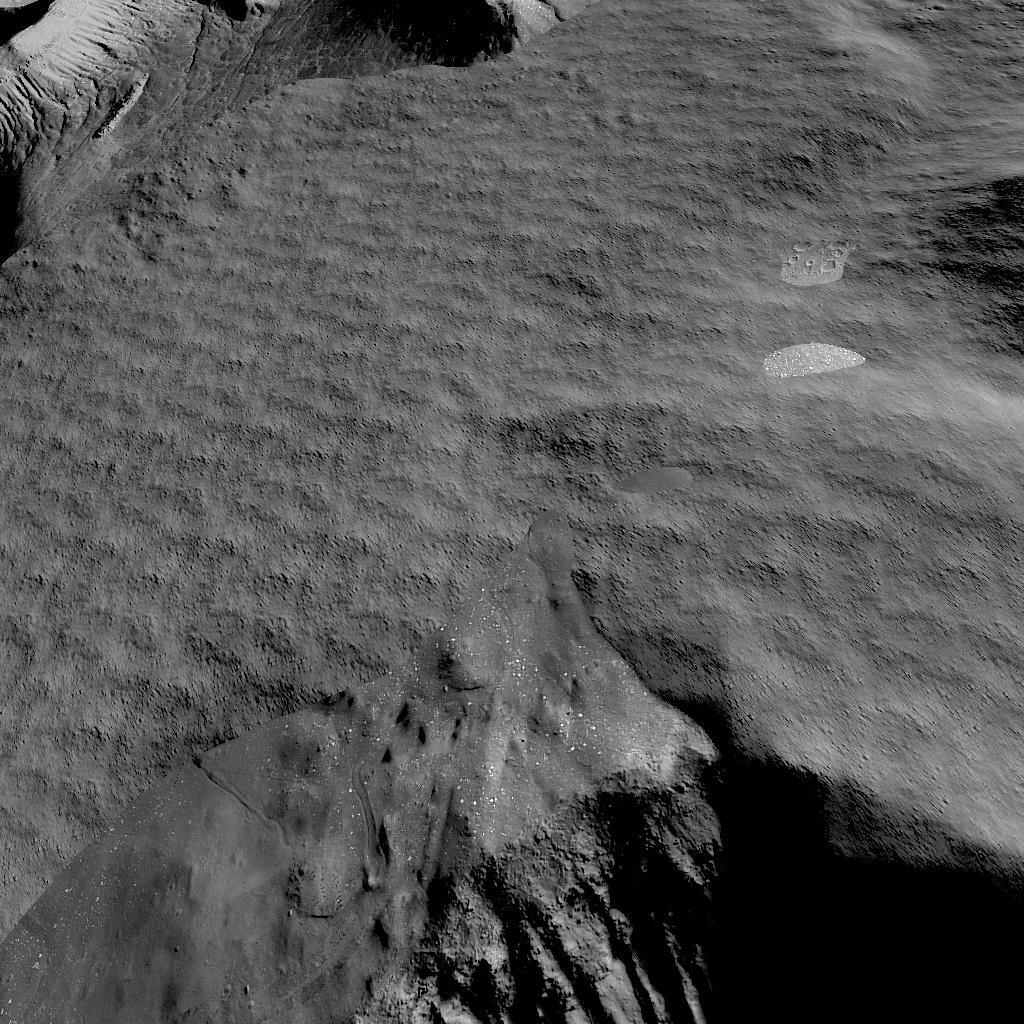Boulders: (0, 0, 595, 265)
Crater: (0, 562, 1024, 1024), (936, 172, 1024, 366)
Plan surface: (0, 278, 909, 550)
